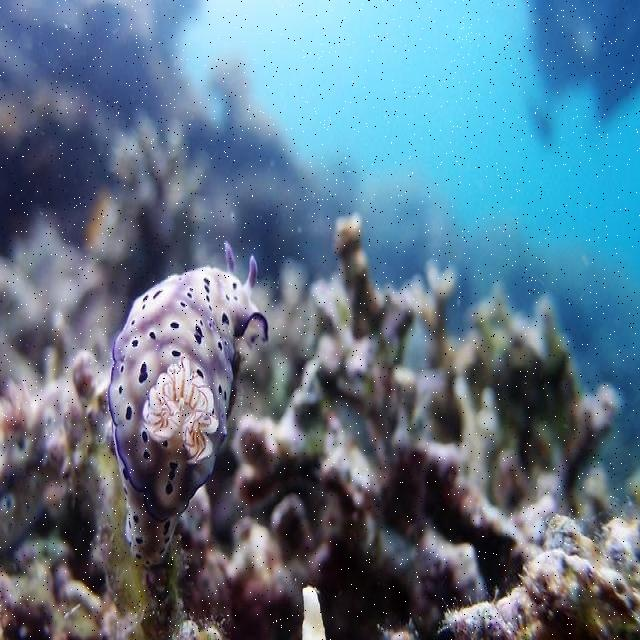reefs: (102, 241, 270, 569)
